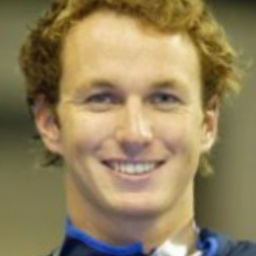Person: (12, 3, 256, 253)
